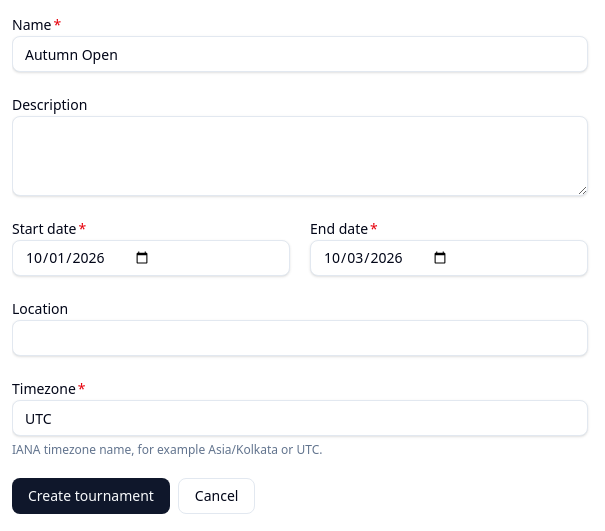
Test: TournamentForm › disables the submit button while the request is pending
The width and height of the screenshot is (605, 531).
Click the button "Create tournament": (91, 496) [12,478,170,514]
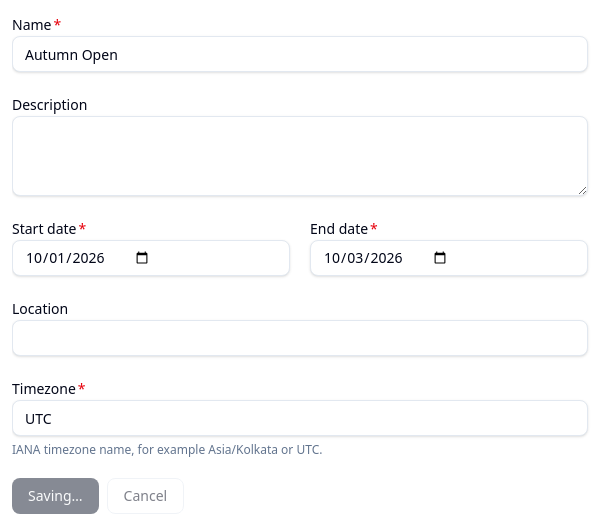
Check: the button "Saving…" is disabled, box [12,478,99,514]
